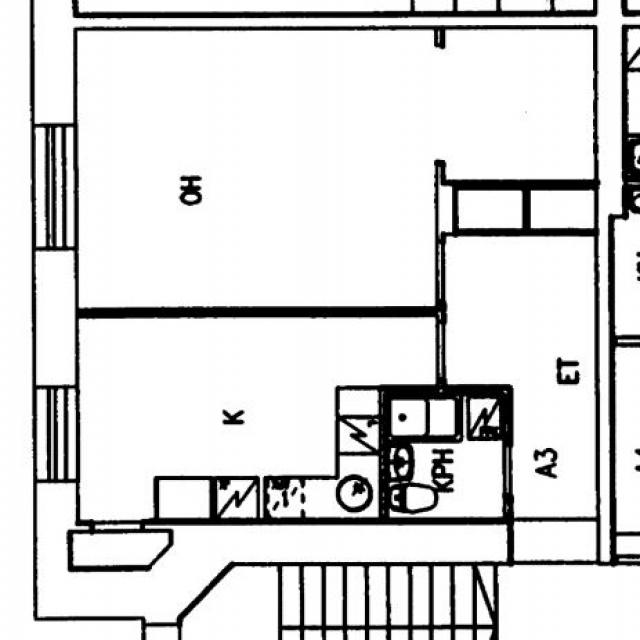door: (514, 519, 594, 640)
